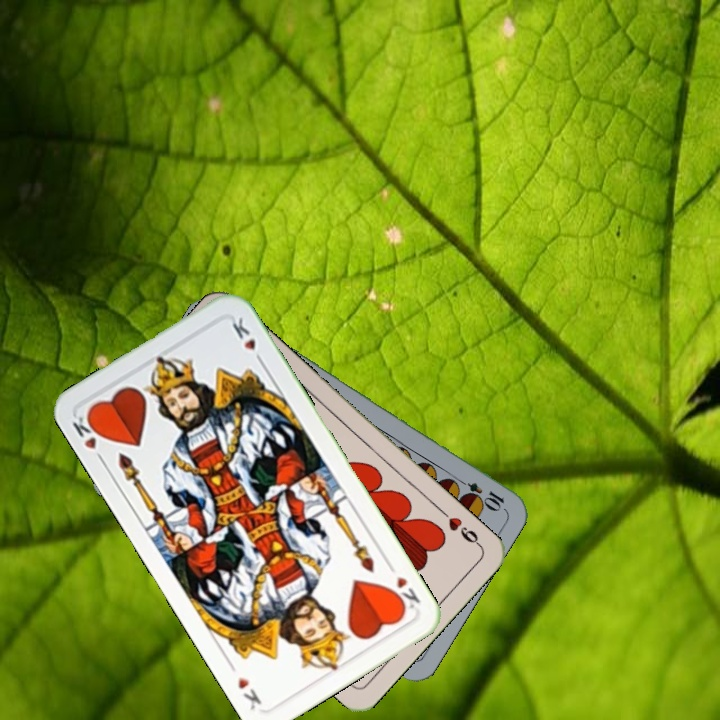E10: (451, 474, 507, 512)
H9: (436, 505, 484, 550)
HK: (383, 559, 423, 617), (68, 407, 107, 466)
